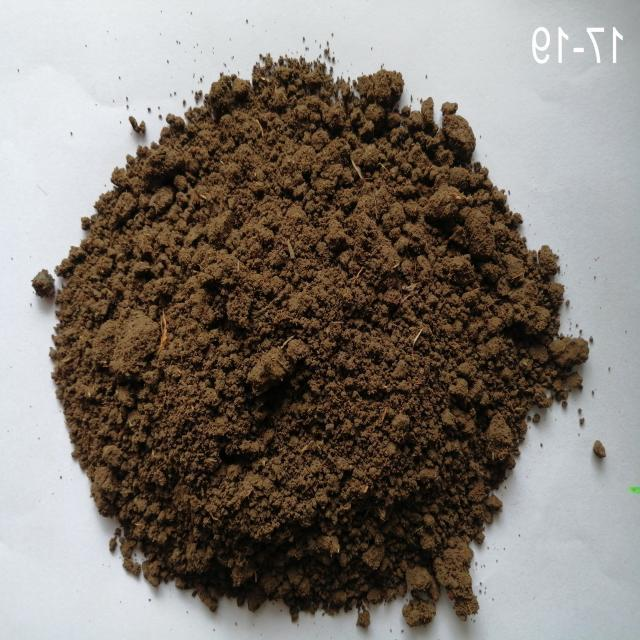soil: (126, 139, 452, 537)
